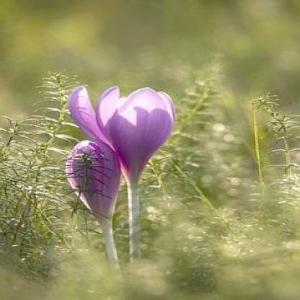Saffron: (69, 86, 176, 188), (64, 140, 123, 226)
